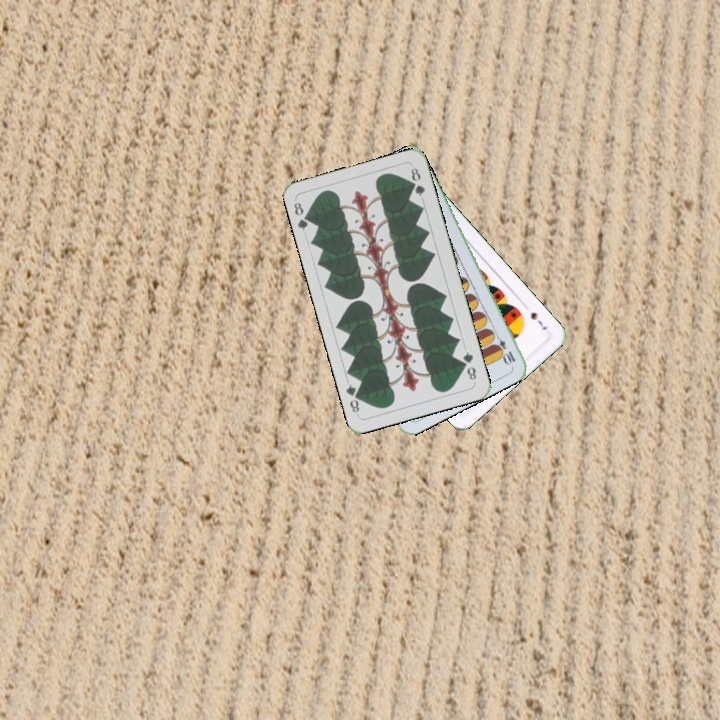E10: (490, 329, 518, 367)
G8: (289, 198, 314, 233), (459, 347, 479, 384)
S7: (527, 308, 550, 333)
